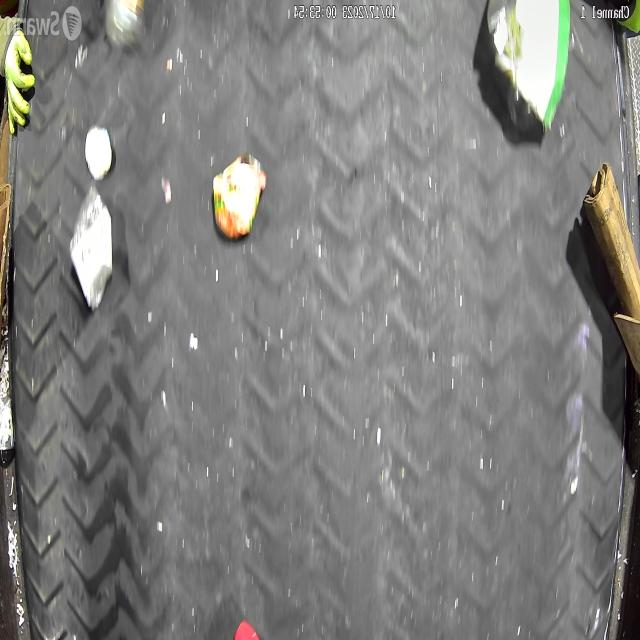can: (0, 392, 14, 450)
